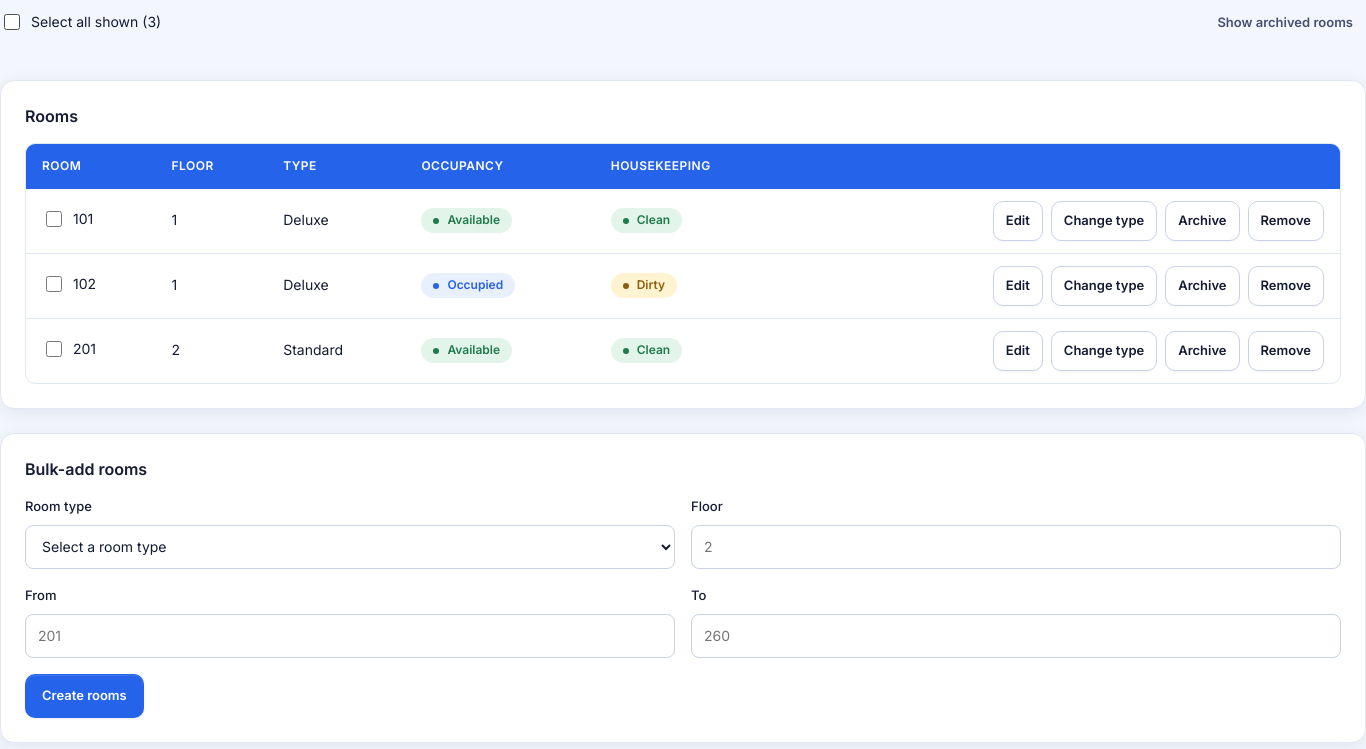
Test: <RoomsTab> › managing rooms after creation › rename › opens a pre-filled form with the door-lock warning, and saves only the room number and floor
Check: the text "101" is shown, box [42,208,93,230]
Click the button "Edit" in the row of "101": click(1018, 221) [993,201,1043,241]
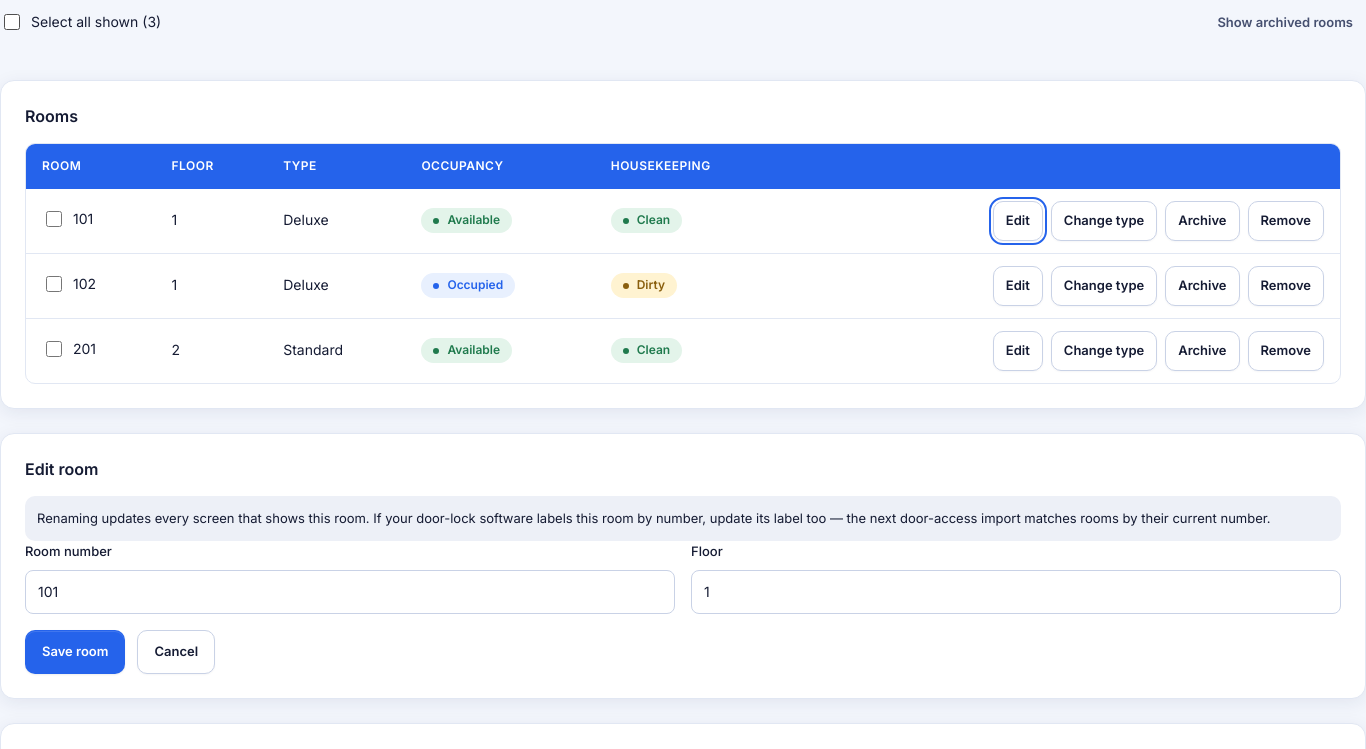
Check: the field labelled "Room number" holds "101"
Check: the field labelled "Floor" holds "1", box [691,570,1341,614]
Check: the text "door-lock software labels this room by number" is shown, box [37,510,1271,526]
Replace the text in the field labelled "Room number" with "111": (350, 592) [25,570,675,614]
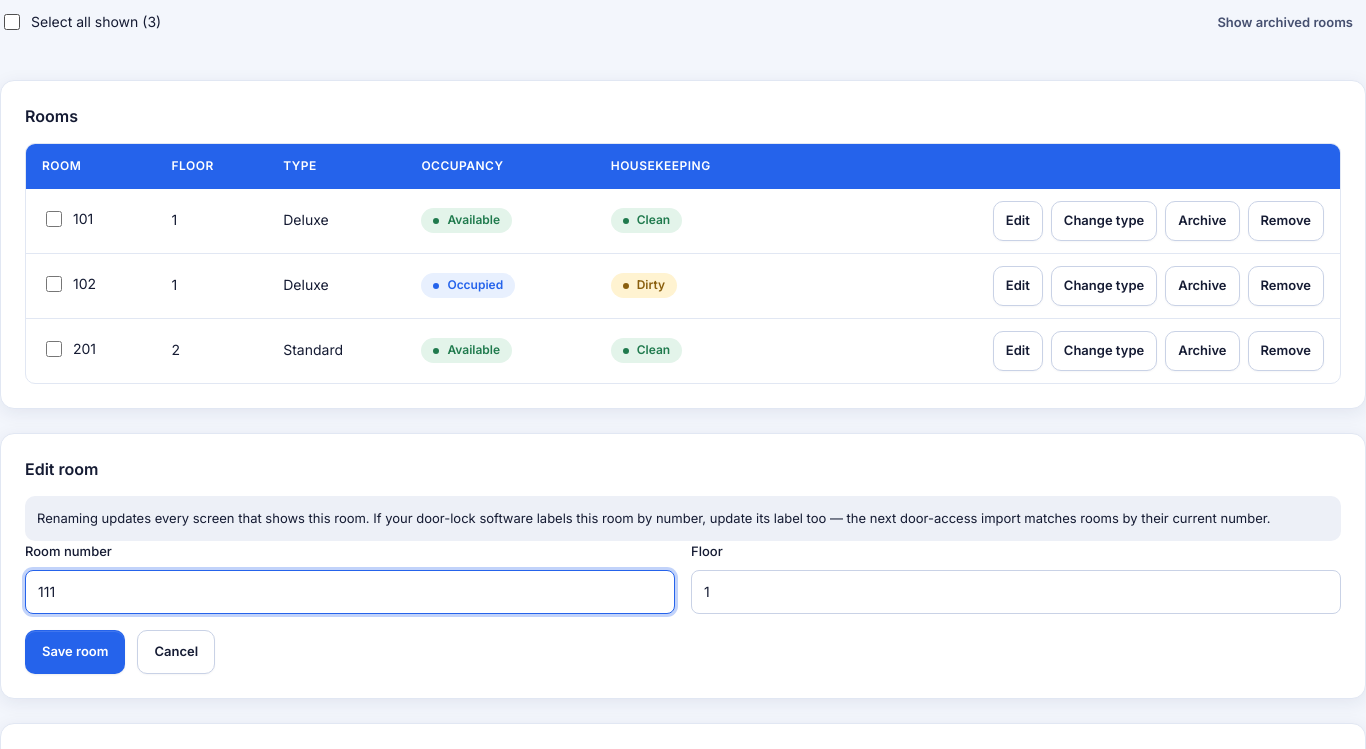
Click the button "Save room": click(75, 652) [25,630,126,674]
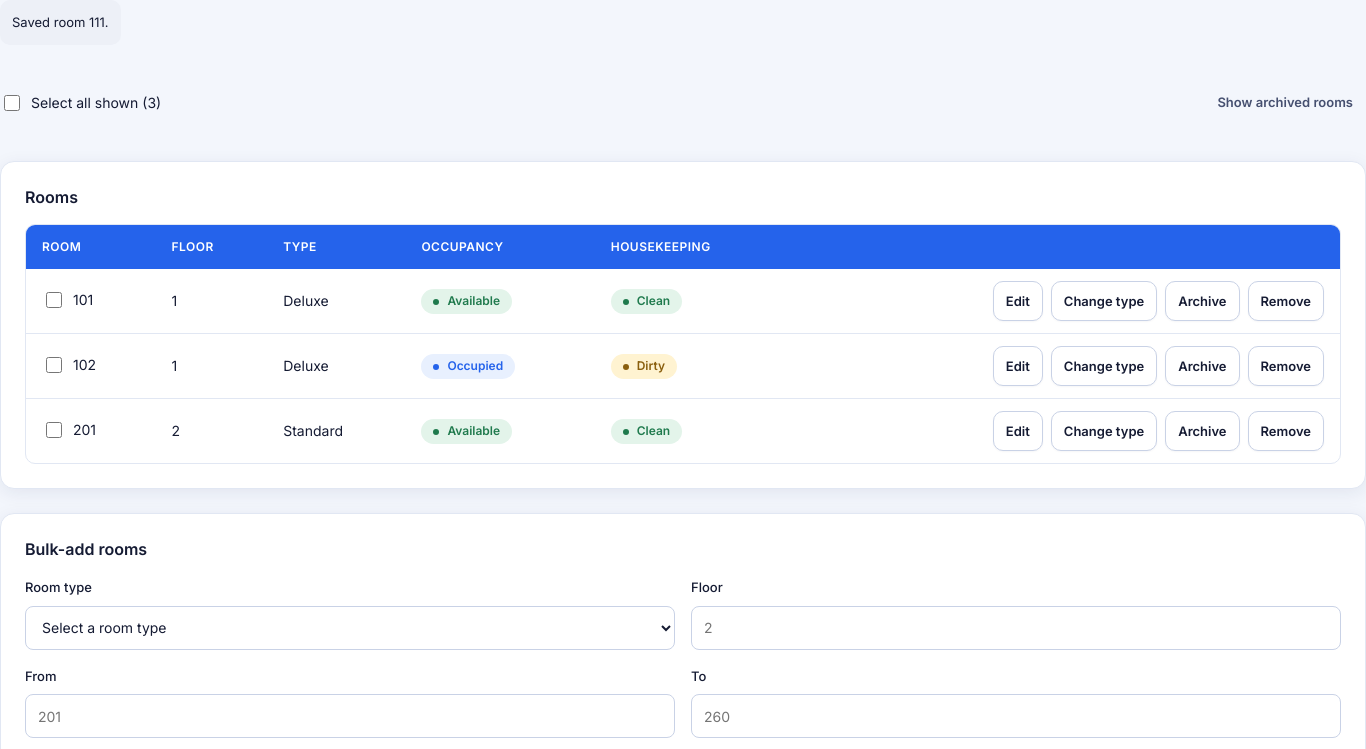
Check: the text "Saved room 111." is shown, box [0,0,121,45]
